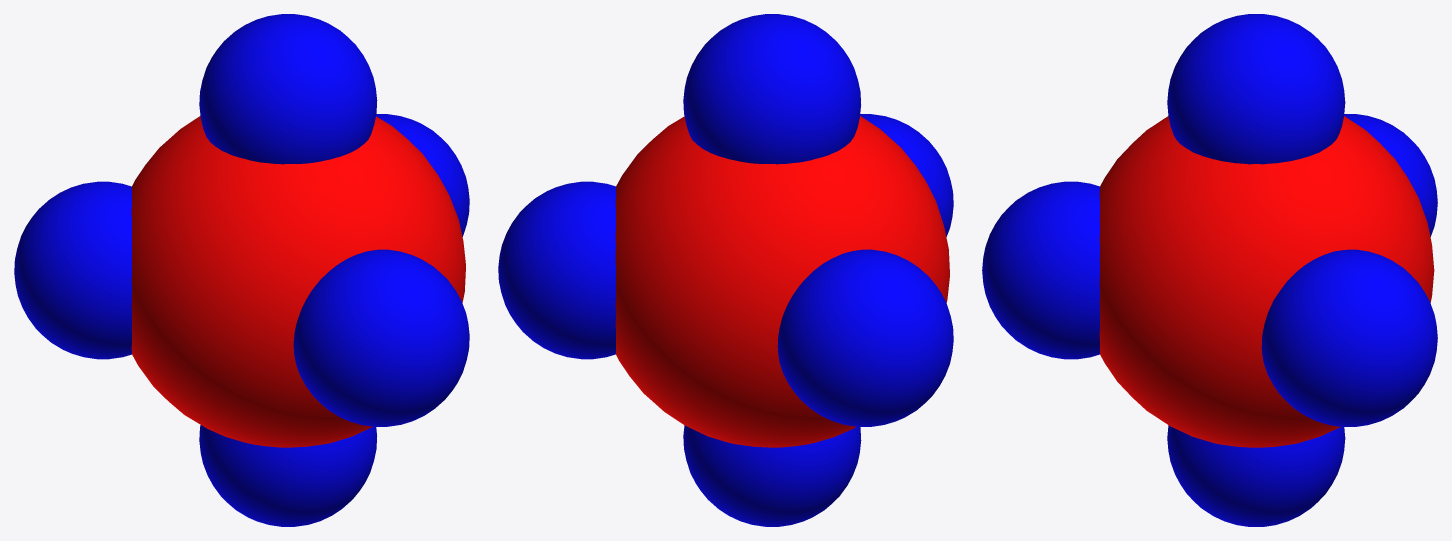
File: trigonal_bipyramidal_space.glb
3 renders of one model, left to right at view 1: azimuth 30°, elevation 25°; view 2: azimuth 150°, elevation 25°; view 3: azimuth 270°, elevation 25°, orthographic.
Visible parts, largest first — view 1: trigonal_bipyramidal_space; view 2: trigonal_bipyramidal_space; view 3: trigonal_bipyramidal_space.
Boxes of the visible parts, left/top/right/bottom form: trigonal_bipyramidal_space: left=14, top=14, right=469, bottom=526; trigonal_bipyramidal_space: left=498, top=14, right=953, bottom=526; trigonal_bipyramidal_space: left=982, top=14, right=1437, bottom=526.
Size of the model in its own units: 3.53 by 3.88 by 3.23.
